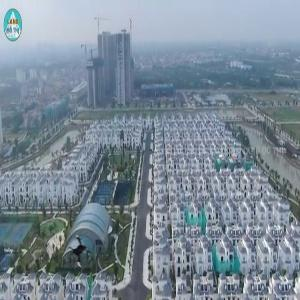drone: (63, 232, 101, 270)
